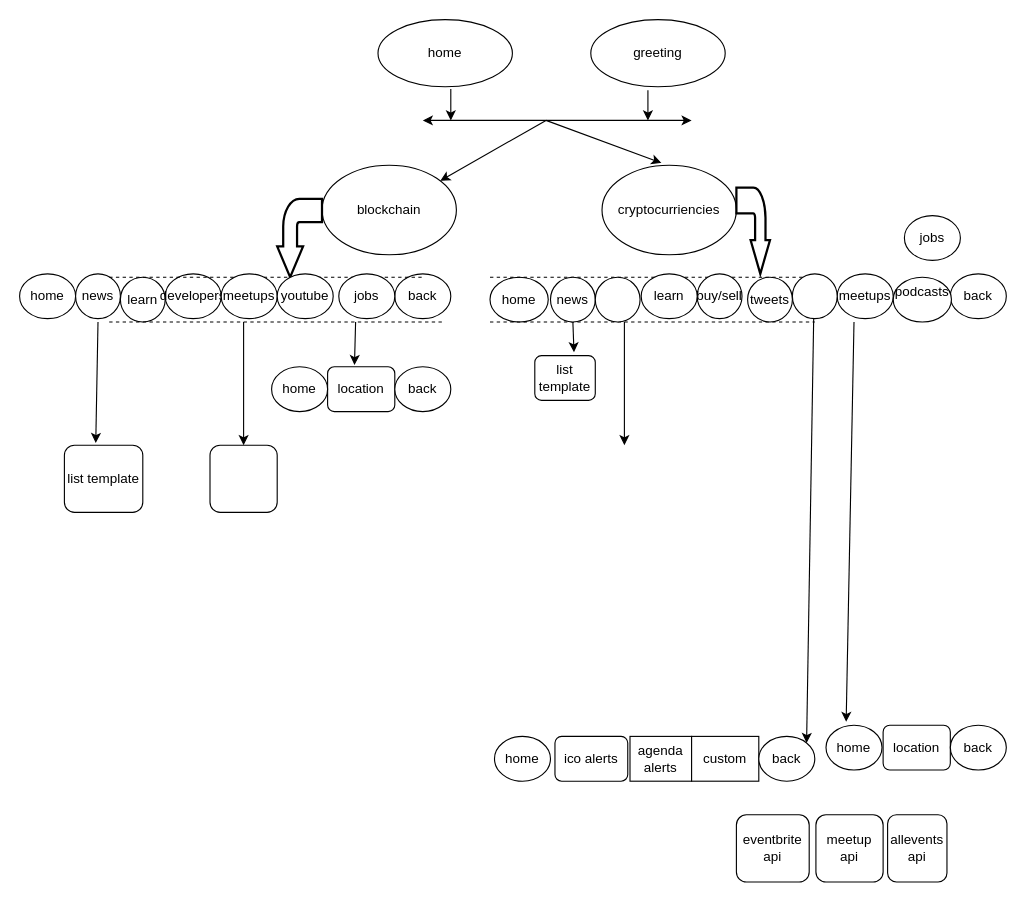
Image size: 1026x902. Some labels were removed from this diagram. Each missing label, with the box of its shape:
alerts: (791, 273, 837, 319)
current prices: (594, 276, 640, 322)
generic template: (209, 444, 277, 512)
